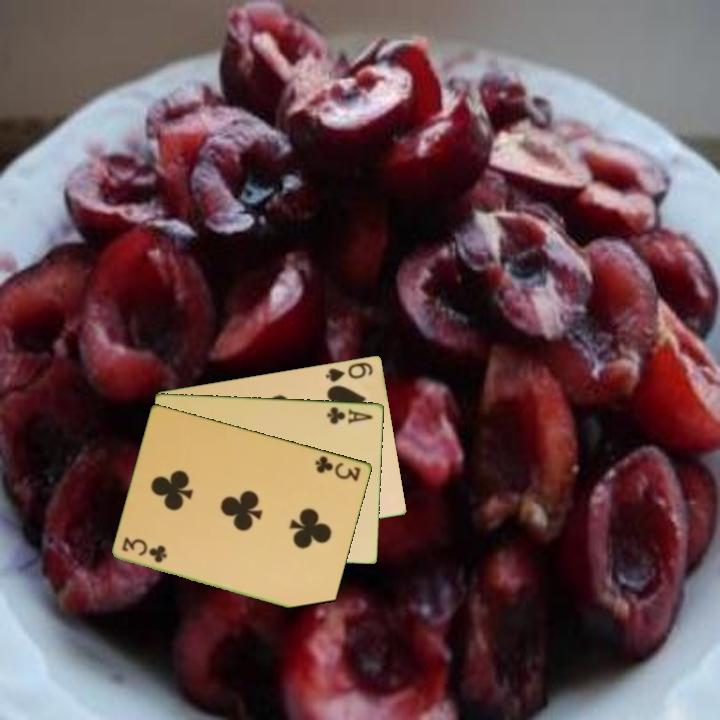3c: (312, 452, 364, 484), (119, 535, 170, 565)
6s: (322, 358, 376, 385)
Ac: (324, 403, 376, 426)
